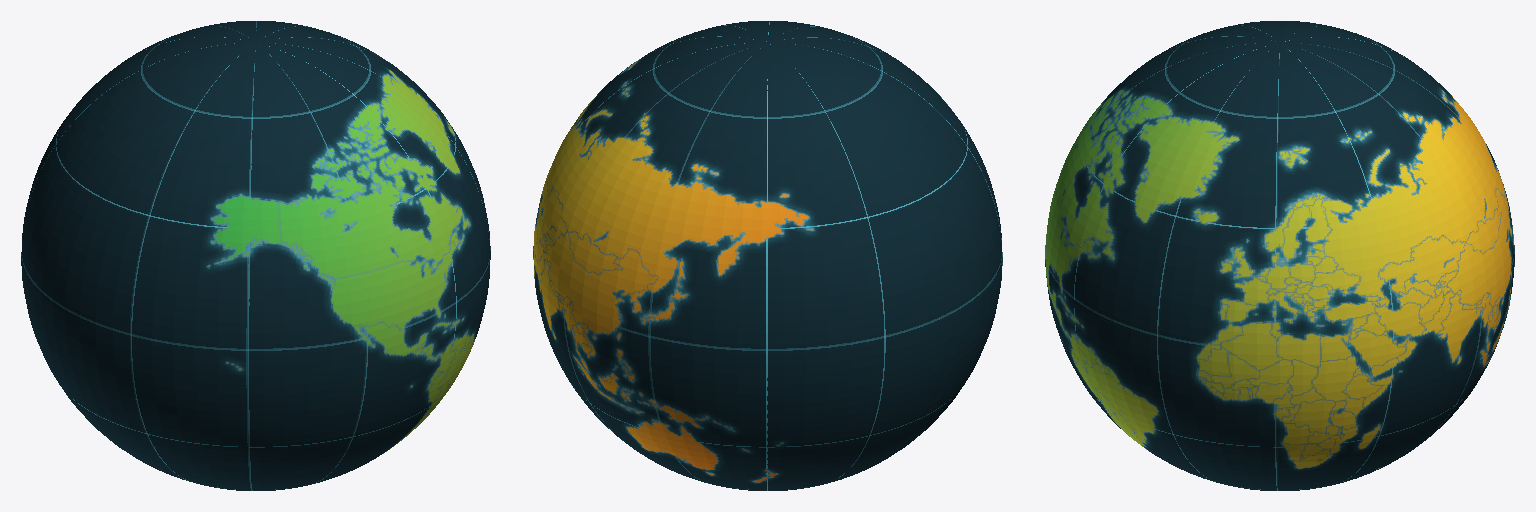
3 views of the same model, side by side, from view 1: azimuth 30°, elevation 25°; view 2: azimuth 150°, elevation 25°; view 3: azimuth 270°, elevation 25° (orthographic).
Parts seen in each view (by area): view 1: Сфера; view 2: Сфера; view 3: Сфера.
Boxes of the visible parts, x1=… form: Сфера: x1=21, y1=21, x2=490, y2=490; Сфера: x1=533, y1=21, x2=1002, y2=490; Сфера: x1=1045, y1=21, x2=1514, y2=490.
Size of the model in its own units: 1.99 by 2 by 1.99.
1 materials, 1 textured.